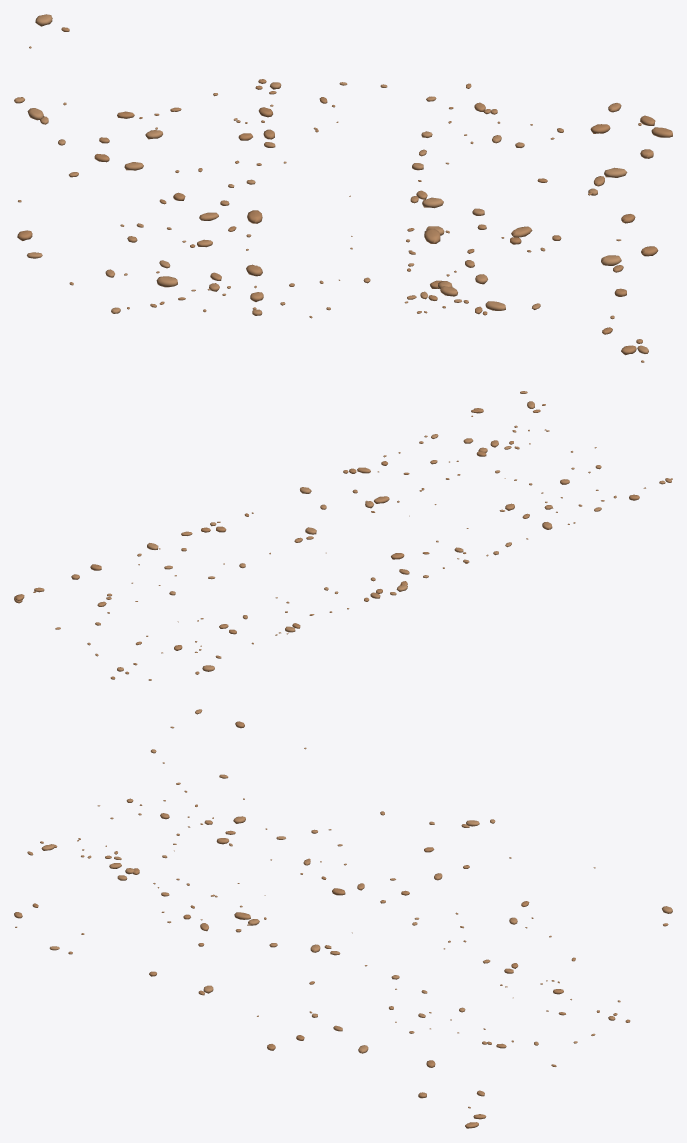
File: terrain-114.glb
3 renders of one model, top to bottom at view 1: azimuth 30°, elevation 25°; view 2: azimuth 150°, elevation 25°; view 3: azimuth 270°, elevation 25°, orthographic. The views are drawn at different scales.
Parts seen in each view (by area): view 1: terrain-114; view 2: terrain-114; view 3: terrain-114.
Boxes of the visible parts, bbox=[...] form: terrain-114: bbox=[14, 14, 672, 362]; terrain-114: bbox=[14, 391, 672, 680]; terrain-114: bbox=[14, 709, 672, 1128].
Size of the model in its own units: 64.8 by 17.75 by 68.1.
